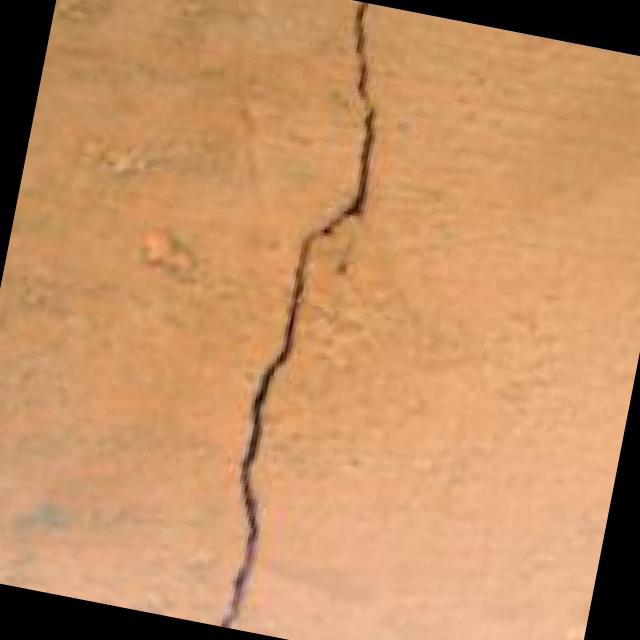crack: (115, 0, 491, 640)
